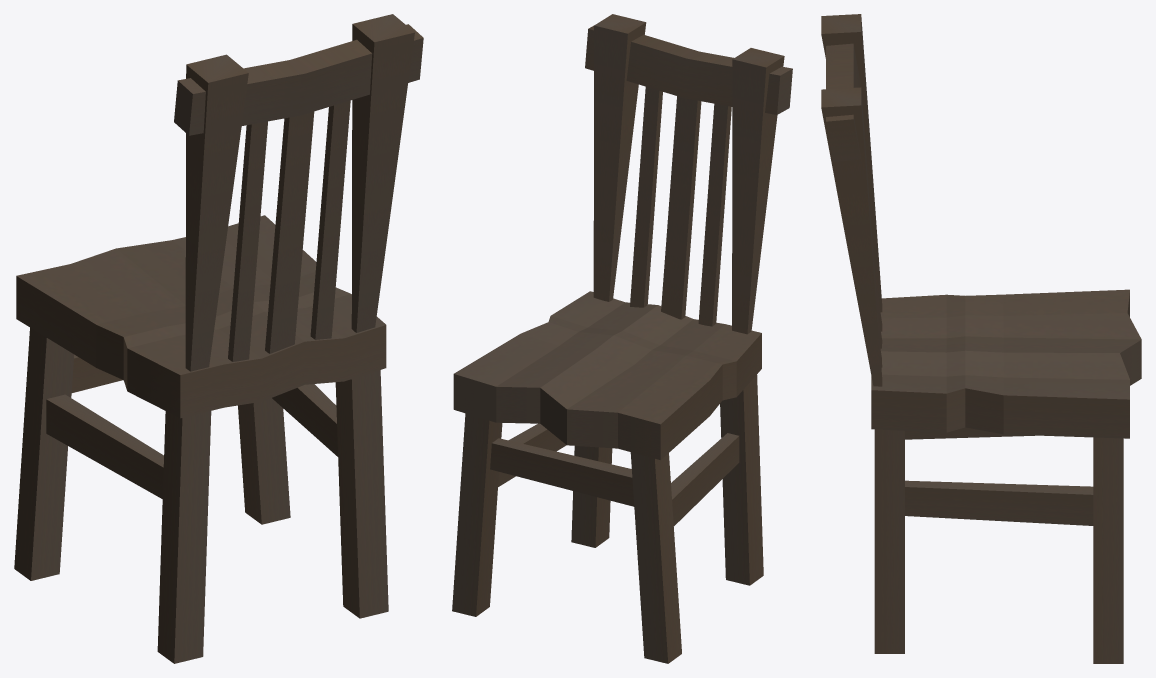
The model's file is Chair_1.fbx.
The picture shows the model from 3 angles, left to right: view 1: azimuth 30°, elevation 25°; view 2: azimuth 150°, elevation 25°; view 3: azimuth 270°, elevation 25°; orthographic projection. The views are drawn at different scales.
Visible parts, largest first — view 1: polySurface1315; view 2: polySurface1315; view 3: polySurface1315.
Part boxes in pixels (x1,y1,x2,y2): polySurface1315: [14, 14, 423, 663]; polySurface1315: [452, 14, 792, 663]; polySurface1315: [821, 14, 1141, 663].
Bounding box in the file's own units: 62.98 × 140 × 74.31.
